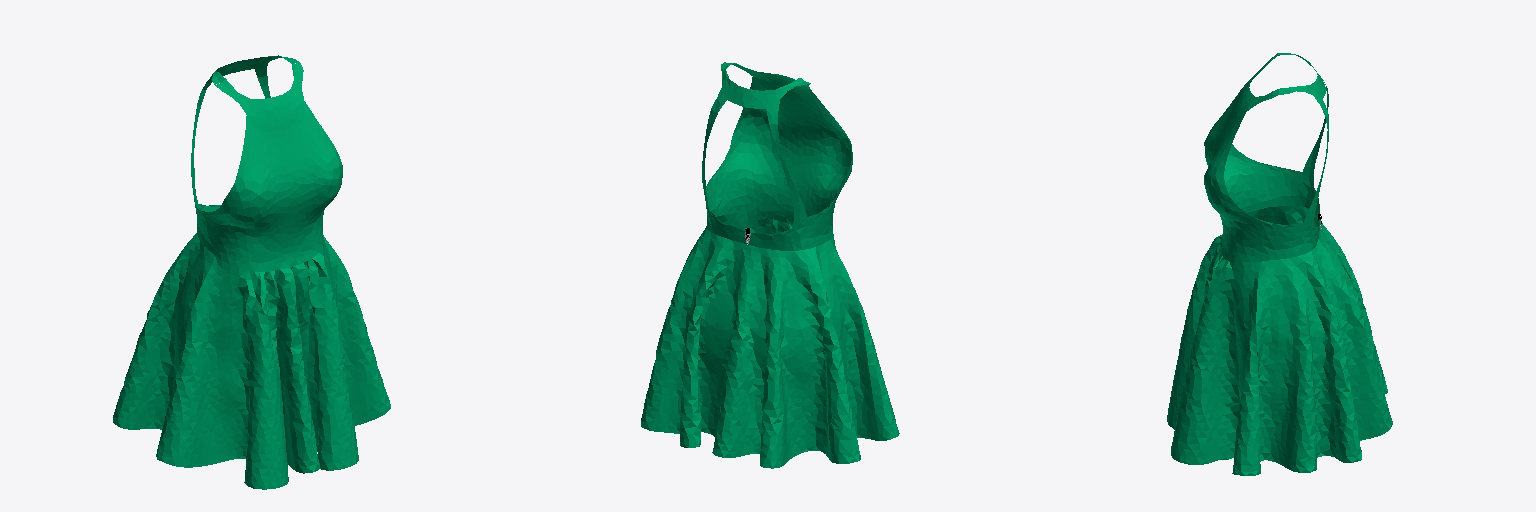
3 views of the same model, side by side, from view 1: azimuth 30°, elevation 25°; view 2: azimuth 150°, elevation 25°; view 3: azimuth 270°, elevation 25° (orthographic).
Parts seen in each view (by area): view 1: small_greenDress_noInside:Mesh small_greenDress_noInside:polySur; view 2: small_greenDress_noInside:Mesh small_greenDress_noInside:polySur; view 3: small_greenDress_noInside:Mesh small_greenDress_noInside:polySur.
Part boxes in pixels (x1,y1,x2,y2): small_greenDress_noInside:Mesh small_greenDress_noInside:polySur: (113, 55, 390, 489); small_greenDress_noInside:Mesh small_greenDress_noInside:polySur: (641, 62, 899, 468); small_greenDress_noInside:Mesh small_greenDress_noInside:polySur: (1167, 53, 1392, 475).
Size of the model in its own units: 4.33 by 6.6 by 3.63.
Materials: 14 (2 with a texture image).